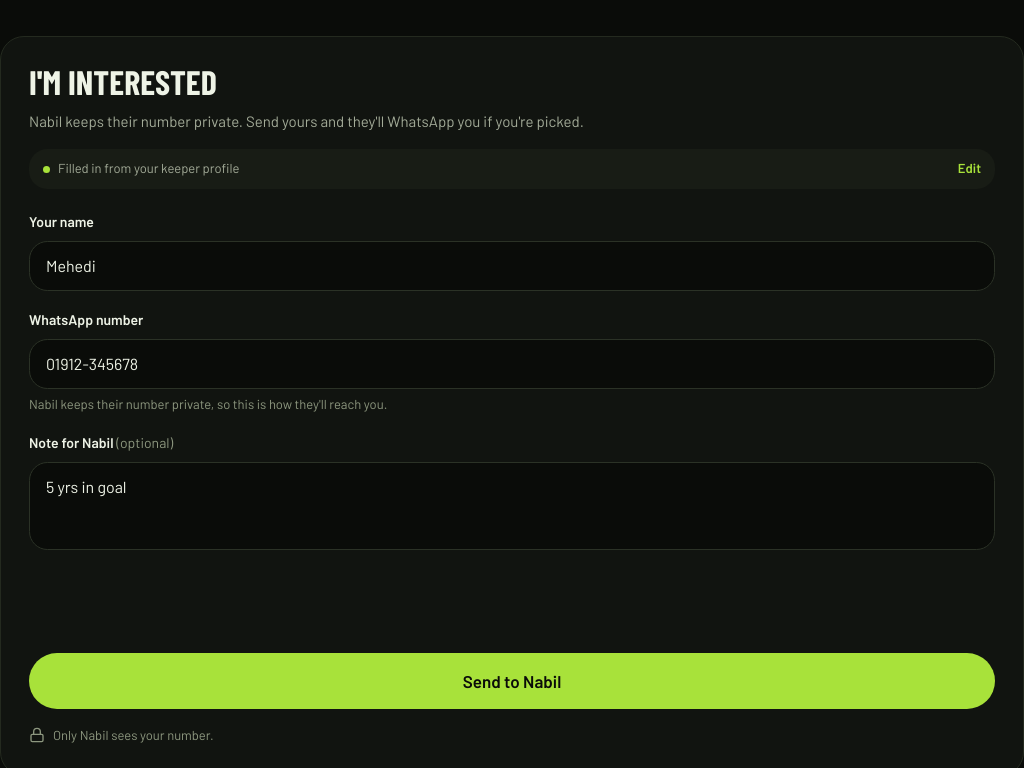
Test: InterestForm › pre-fills from the keeper profile and sends the request
Expected: the field labelled "Your name" holds "Mehedi", [29,241,995,291]
Expected: the field labelled "WhatsApp number" holds "01912-345678", [29,339,995,389]
# The button unlocks once the spam check hands over a token.
Click the button "Send to Nabil".
click(512, 681)  # box [29,653,995,709]
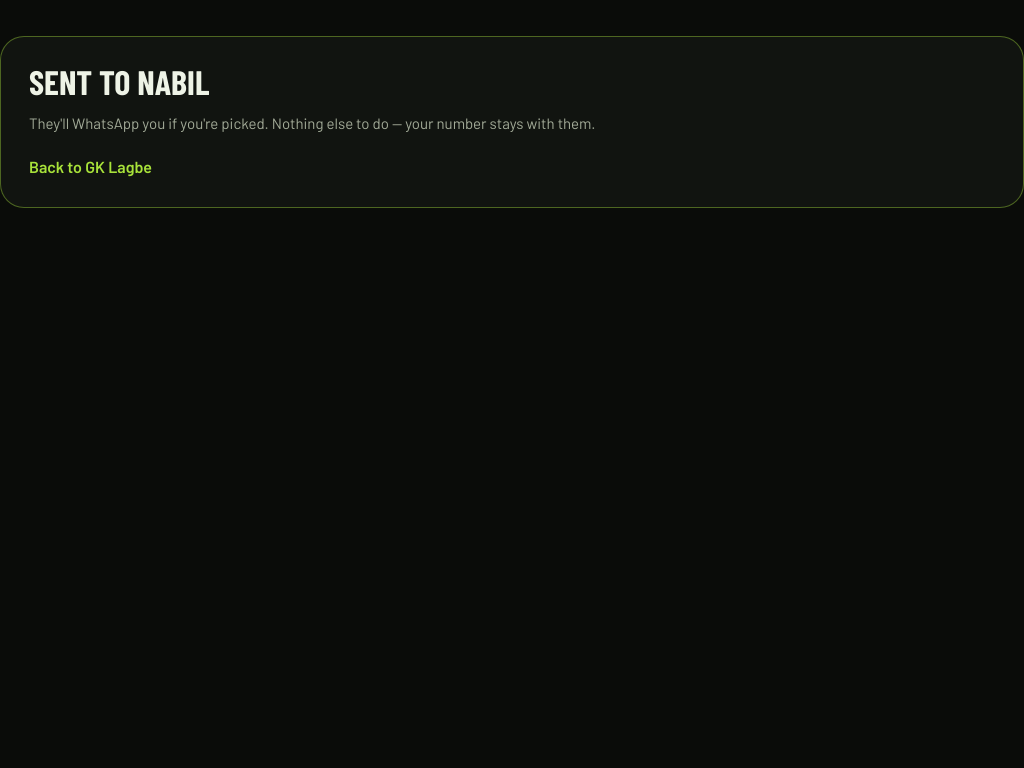
Now the heading "Sent to Nabil" is shown, box [29,61,209,102]
